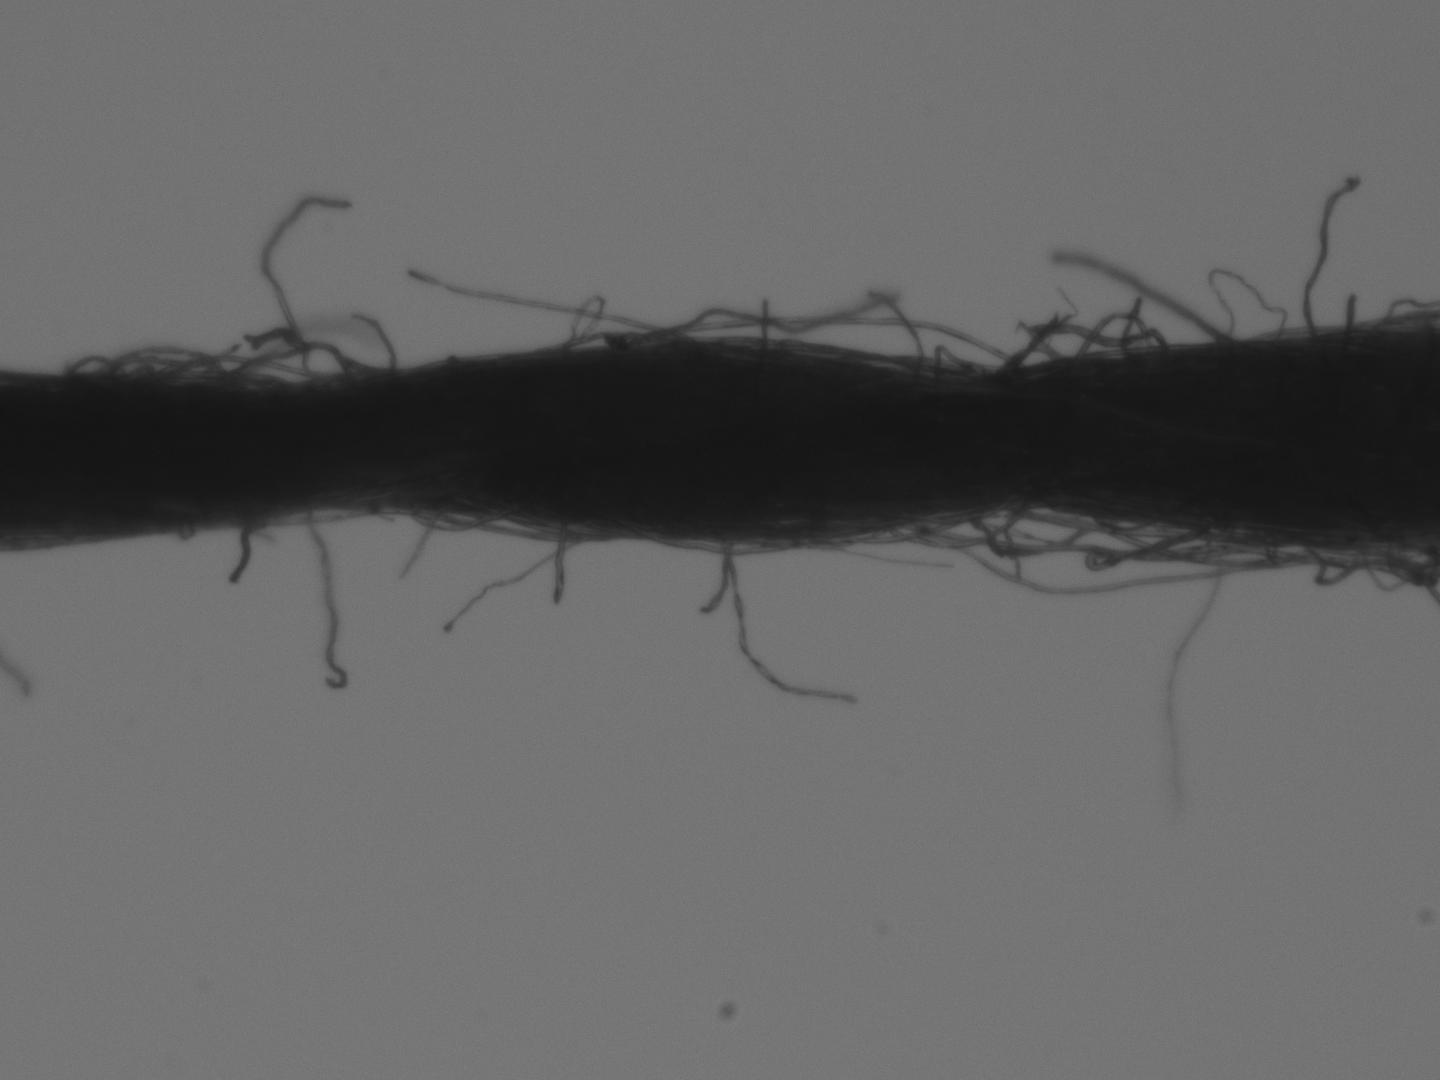loop_fiber: (1083, 505, 1318, 573), (1000, 318, 1168, 372), (966, 505, 1102, 560), (219, 340, 390, 382), (1071, 305, 1181, 363), (891, 500, 1020, 548), (102, 346, 236, 385), (543, 327, 687, 352), (1308, 543, 1374, 589), (929, 343, 984, 376), (58, 352, 122, 378)
protruding_fiber: (719, 534, 855, 711), (261, 194, 355, 385), (1302, 176, 1359, 334), (305, 506, 345, 691), (396, 507, 444, 581), (355, 310, 397, 376), (230, 518, 256, 588), (552, 524, 566, 606), (1345, 292, 1362, 332)
